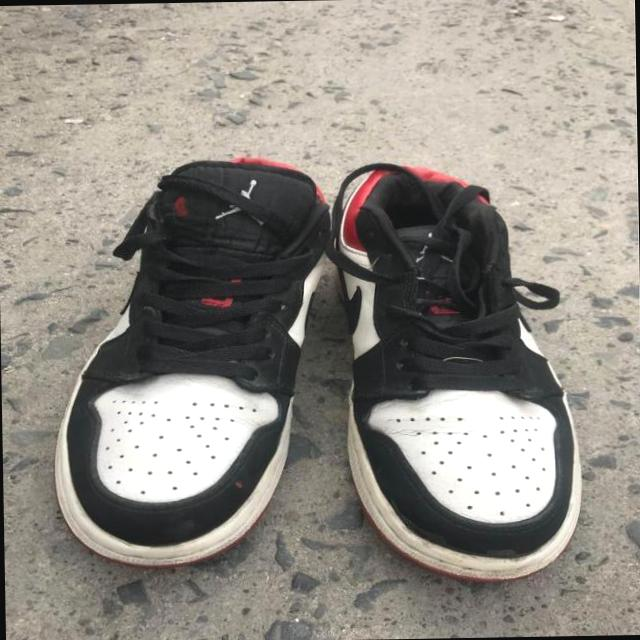nike_original_jordan: (47, 157, 330, 568), (330, 161, 590, 581)
